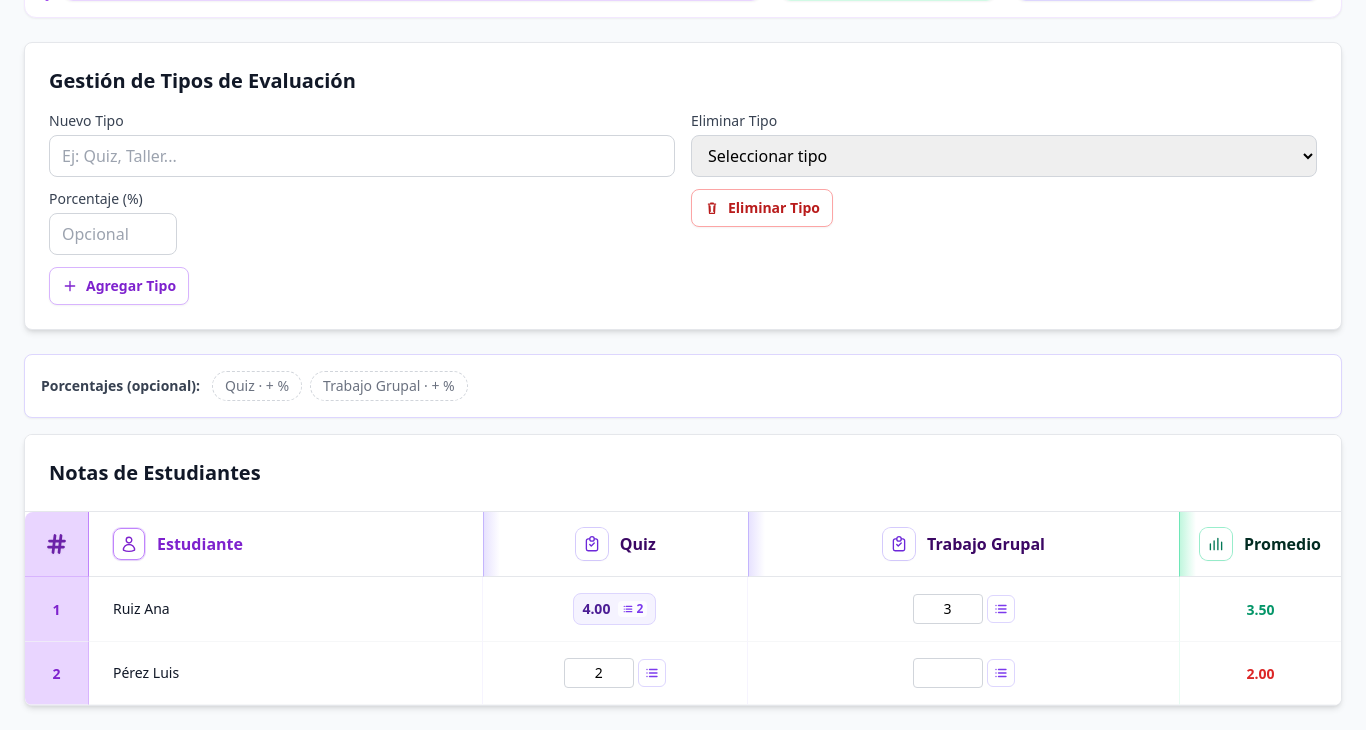
subnotas en la planilla (paso A4) › califica las subnotas desde la celda: la celda pasa a calculada sin recargar la planilla
(page scrolled)
Expected: the text "Ruiz Ana" is shown, [113,599,170,618]
Expected: the button named "Quiz de Ruiz Ana: 4.00. Calculada con 2 subnotas. Abrir subnotas" is shown, [573,593,656,625]
Note: Luis escribe a mano: abre sus subnotas desde el botón de la celda.
Click the button named "Subnotas de Quiz de Pérez Luis" at x=652, y=673, box [638,659,666,687]
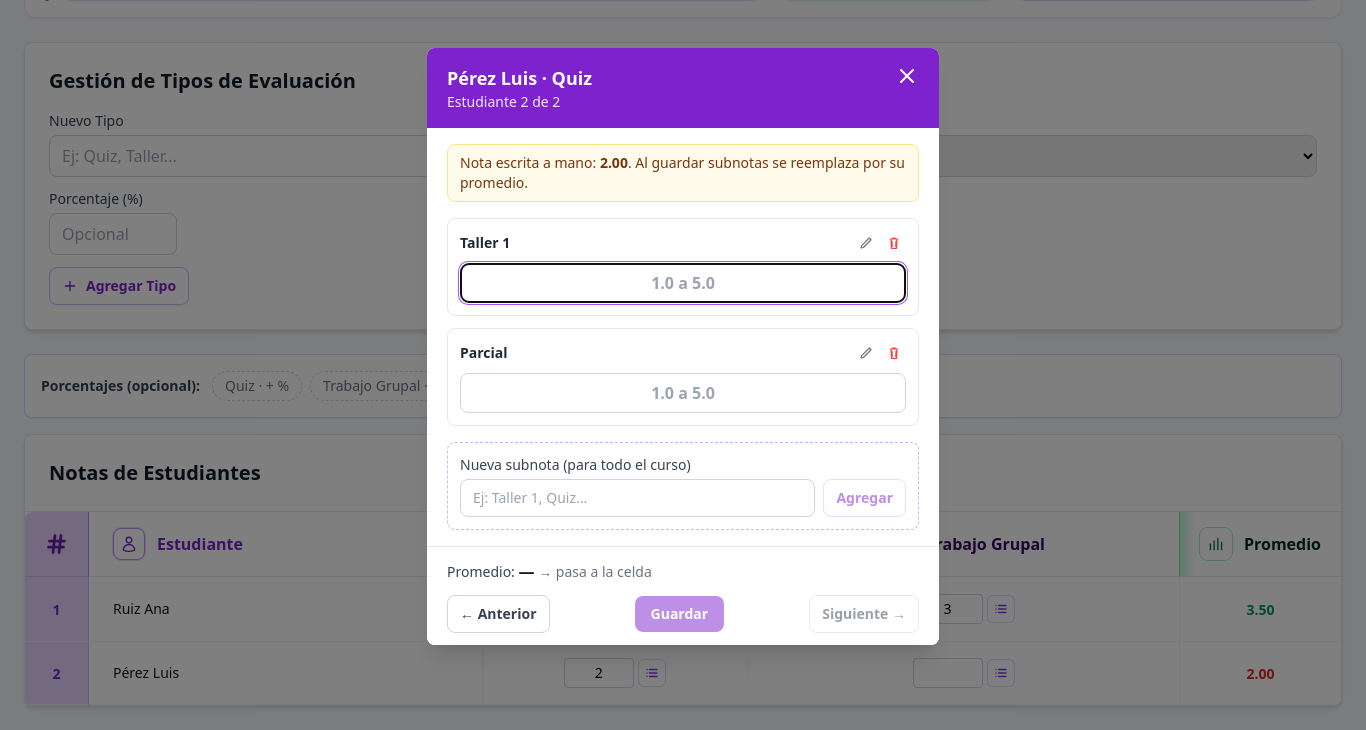
Result: the element that starts with "Nota escrita a mano:" shows "Nota escrita a mano: 2.00." at [447,144,919,202]
Type "5" into the field labelled "Taller 1" at x=683, y=282, box [460,262,906,302]
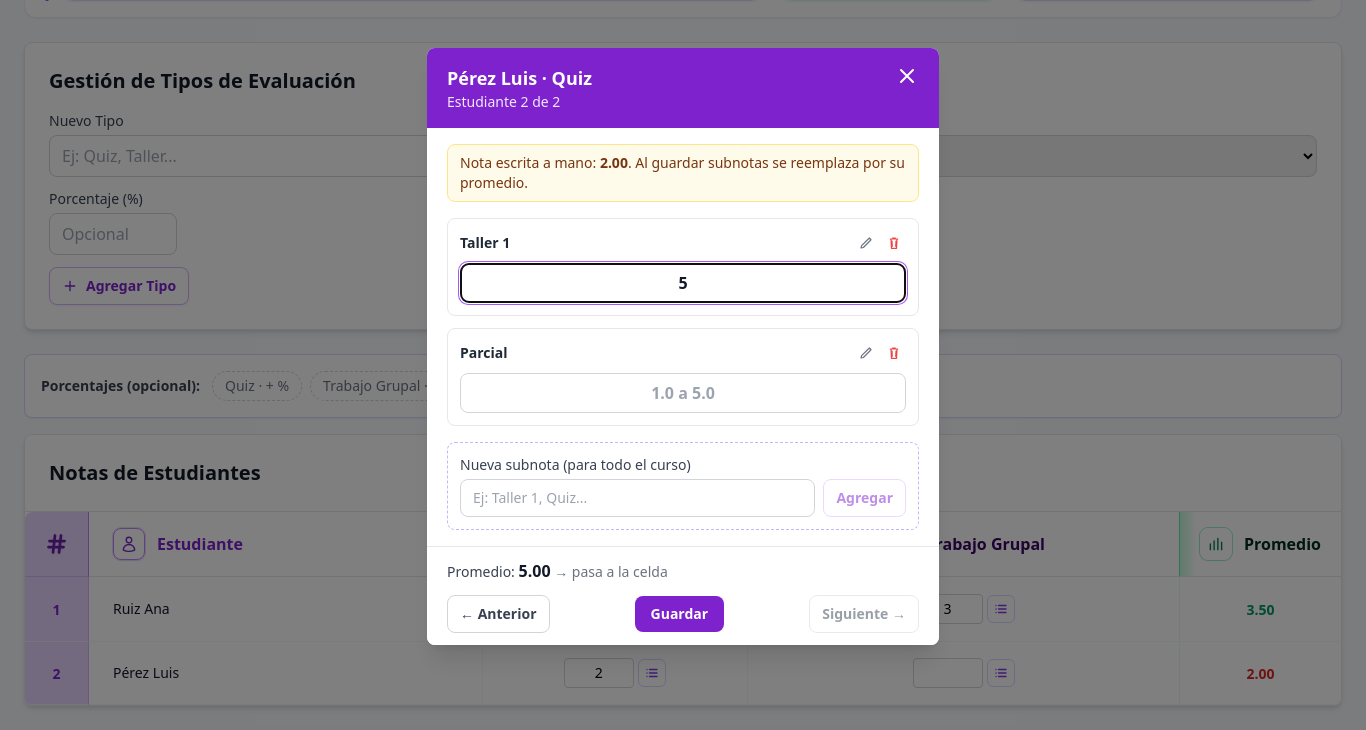
Type "3" into the field labelled "Parcial" at x=683, y=392, box [460,372,906,412]
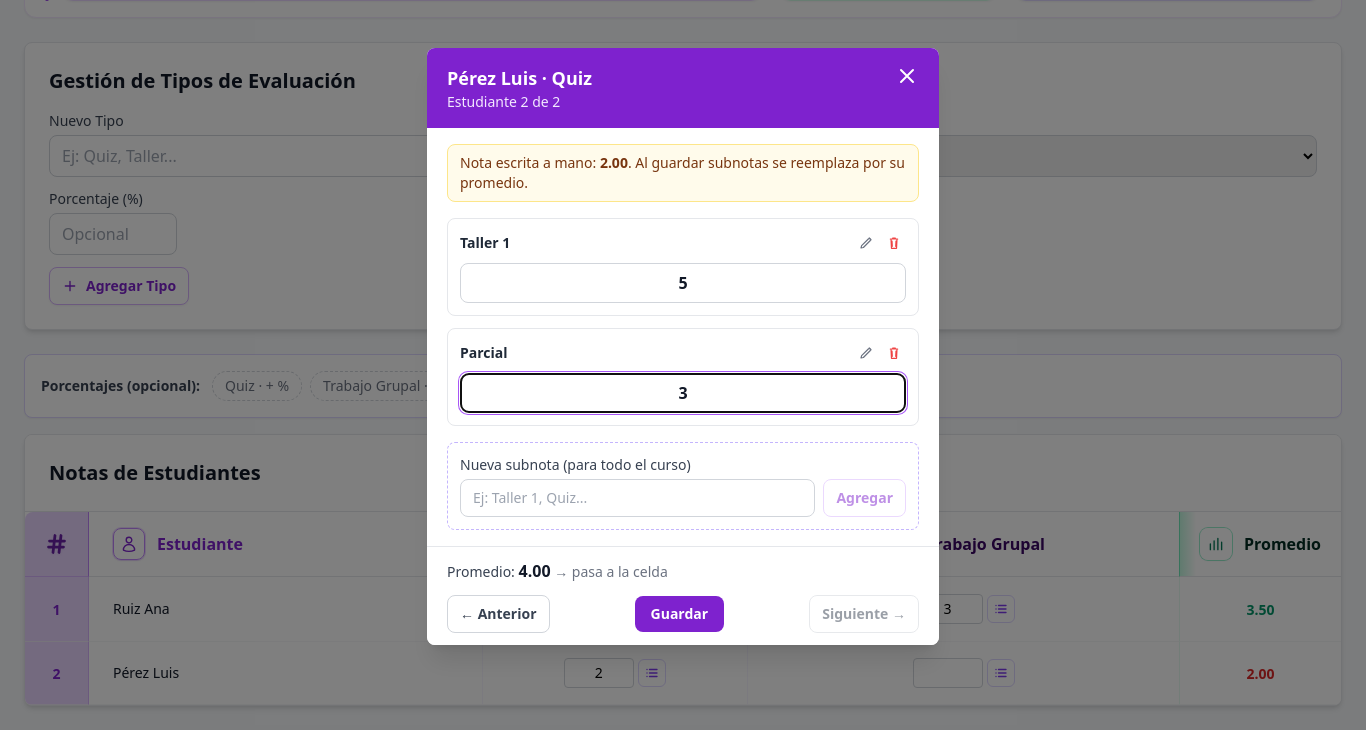
Result: the text "4.00" is shown at [518,560,550,582]
Click the button "Guardar" at x=679, y=614, box [635,596,724,632]
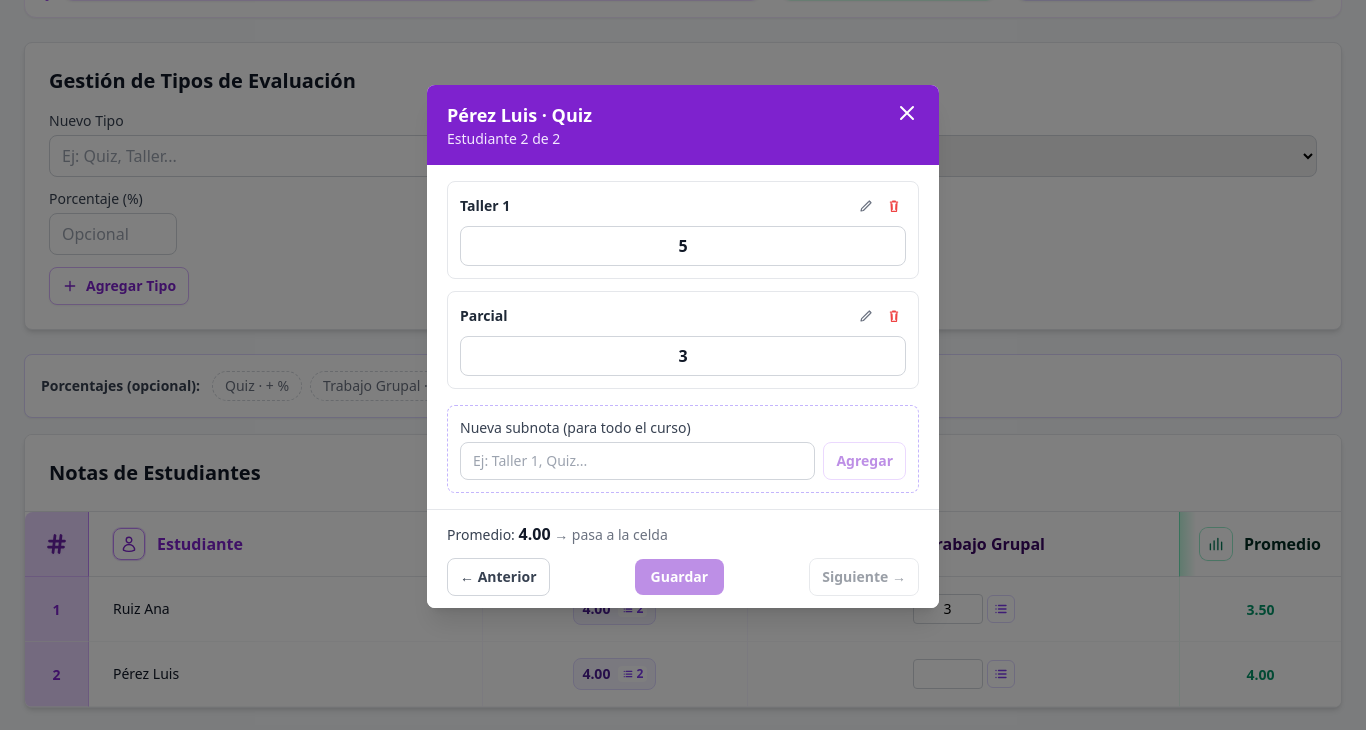
Result: the button named "Quiz de Pérez Luis: 4.00. Calculada con 2 subnotas. Abrir subnotas" is shown at [573,658,656,690]
Result: the text "4.00" below "3.50" is shown at [1246,665,1274,684]
Note: Anterior, sin cambios, pasa a Ana sin escribir nada.
Click the button "← Anterior" at x=498, y=576, box [447,558,550,596]
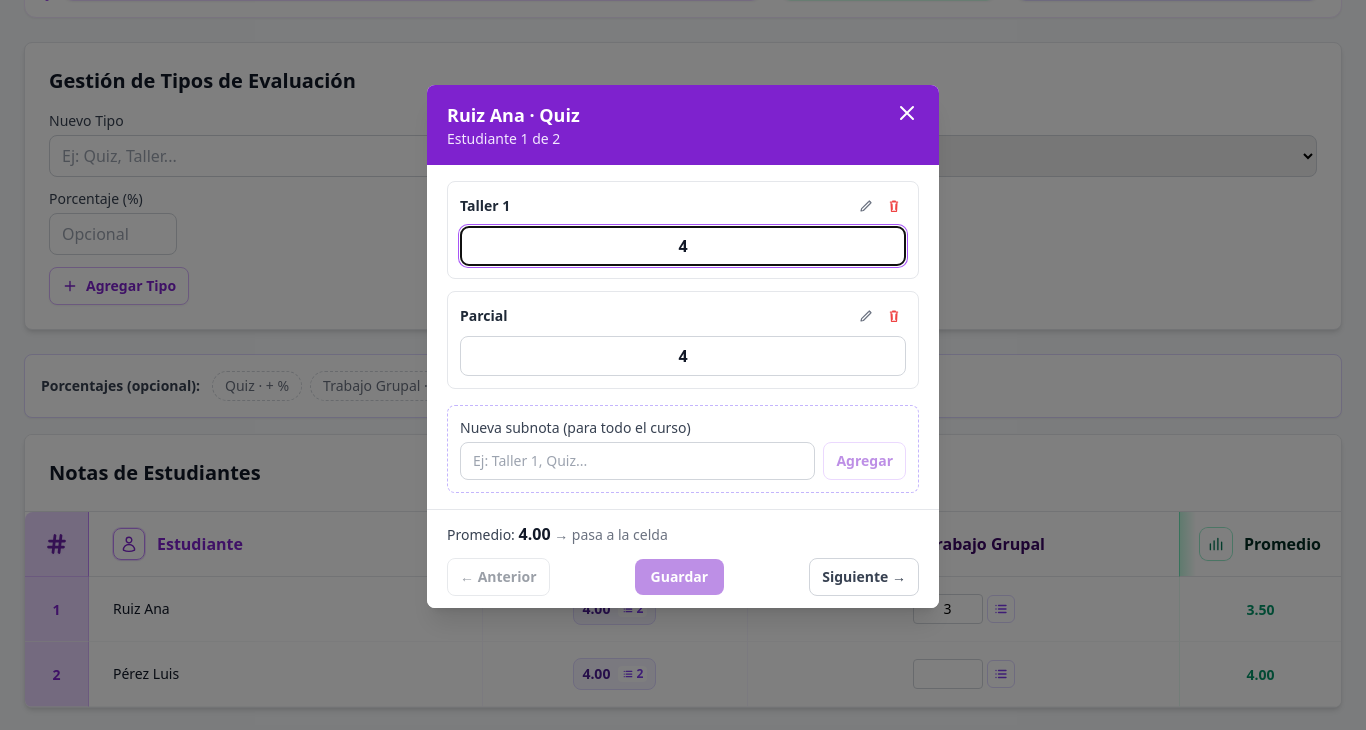
Result: the dialog "Ruiz Ana · Quiz" is shown at [427,84,939,608]
Result: the field labelled "Taller 1" holds "4" at [460,226,906,266]
Click the button named "Cerrar" at x=907, y=112, box [895,100,919,124]
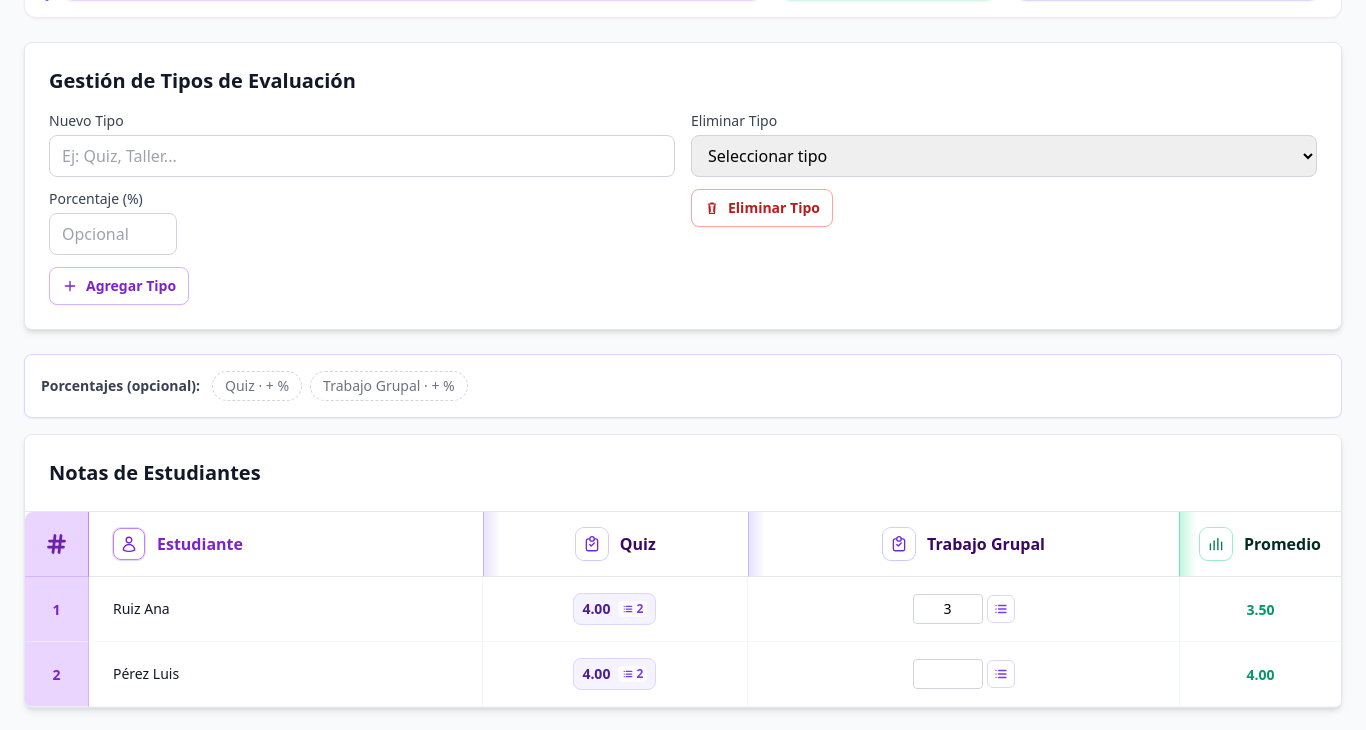
Result: the dialog is gone
